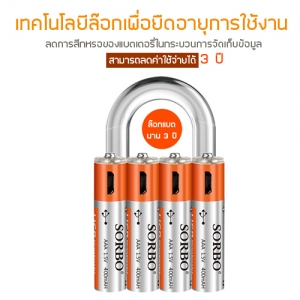Battery: (192, 151, 228, 293), (91, 151, 127, 293), (159, 150, 194, 293), (128, 151, 160, 293)
